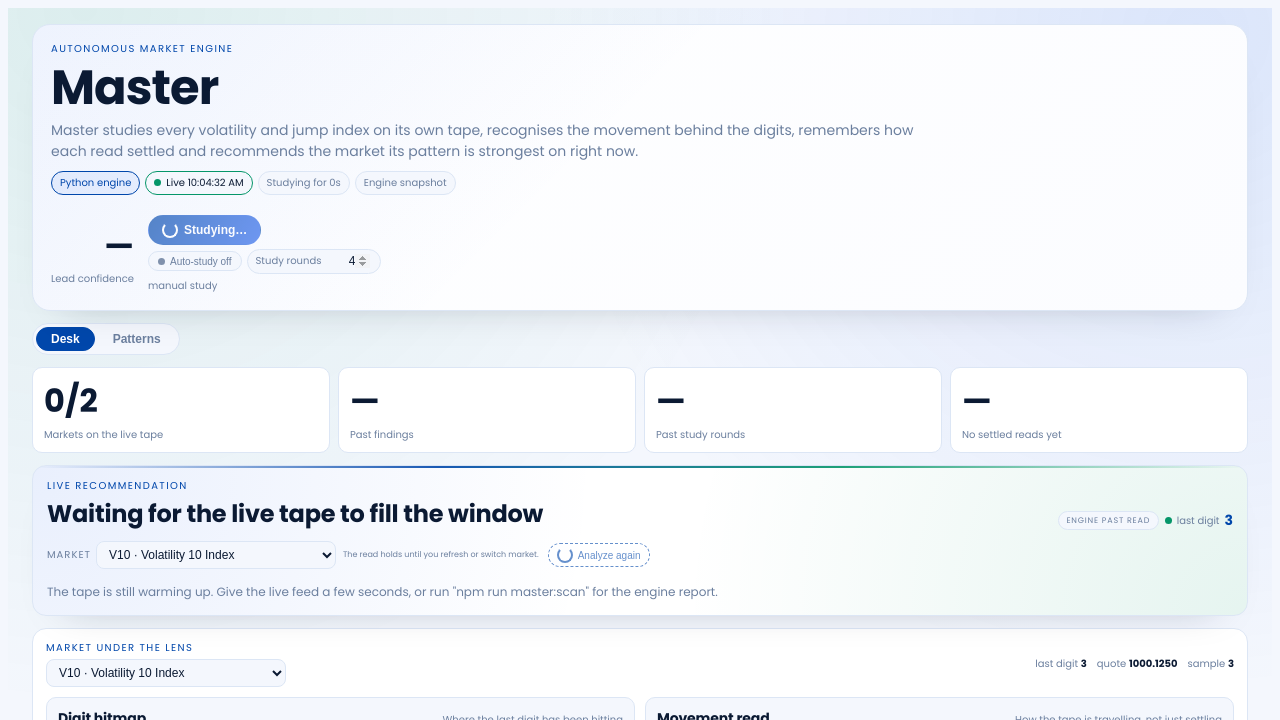
Test: the Master tab › studies the selected market: its hitmap, patterns and digit trail
Select "V25 · Volatility 25 Index" in the dropdown named "Market under the lens" at (166, 673), box top-left (46, 659), bottom-right (286, 687)
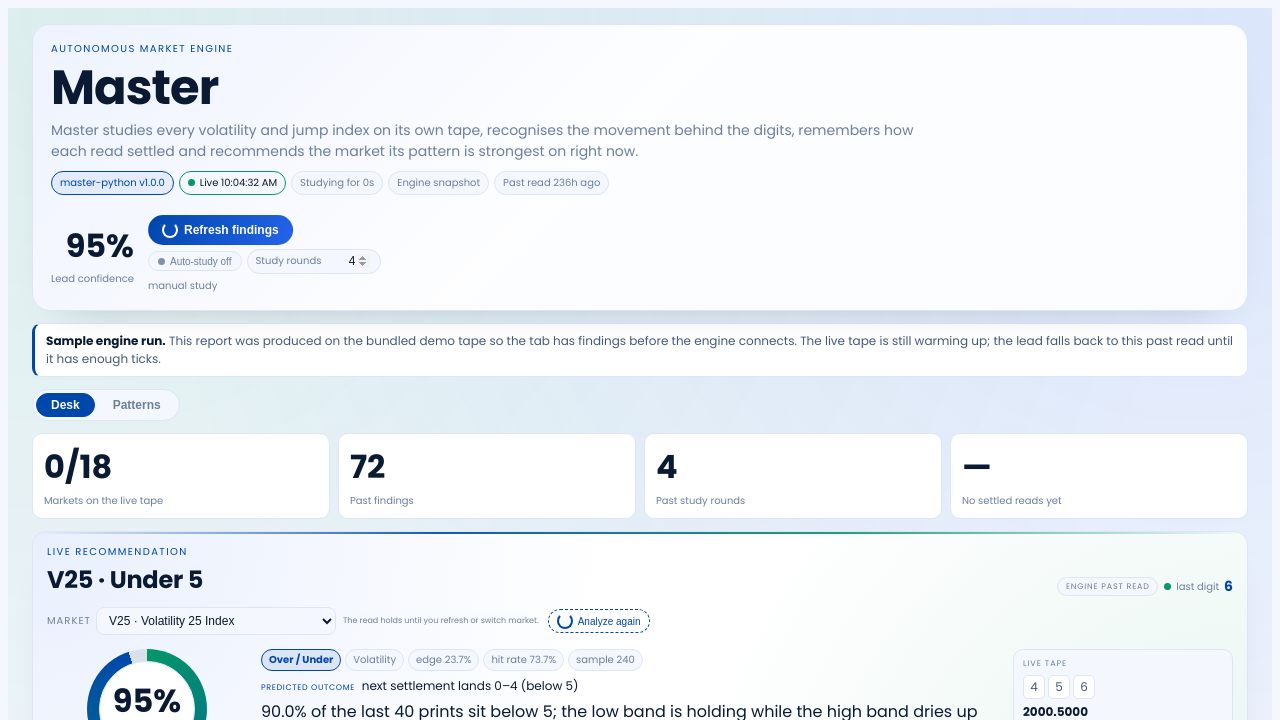
Note: The patterns page reads the newly selected market's own findings.
Click the tab "Patterns" at (137, 405), box top-left (98, 393), bottom-right (176, 417)
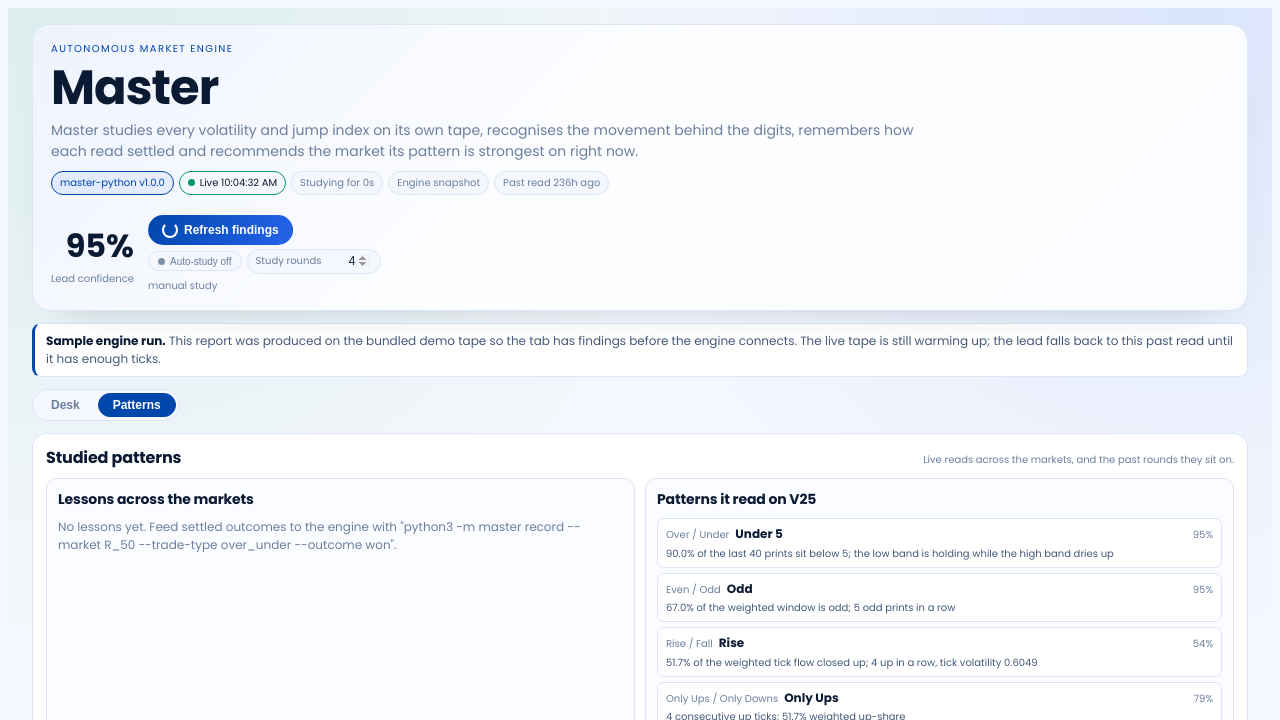
Expected: the heading "Patterns it read on V25" is shown, top-left (657, 489), bottom-right (816, 509)
